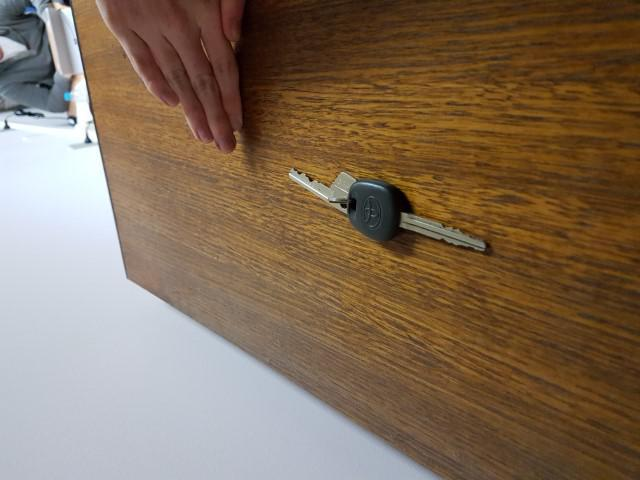key: (350, 183, 488, 253)
